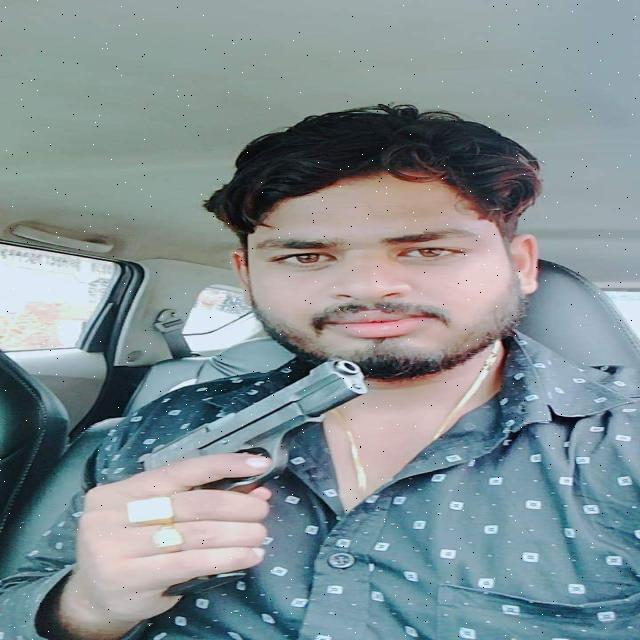gun: (74, 348, 387, 610)
